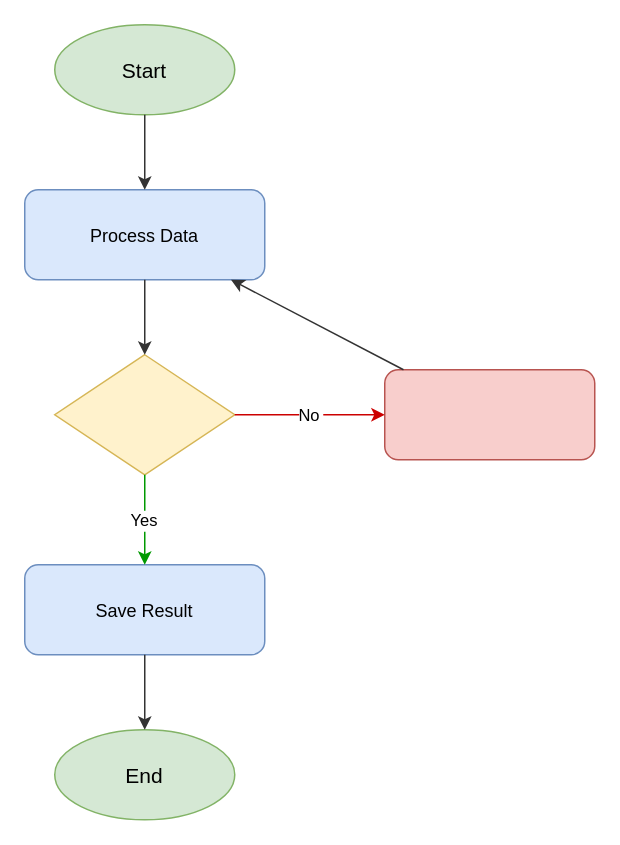
Image size: 620x845. Some labels were removed from this diagram. The centre of each missing label's shape, as x and y in pixels:
"Handle Error" goes at (x=489, y=414).
"Valid?" goes at (x=144, y=414).
